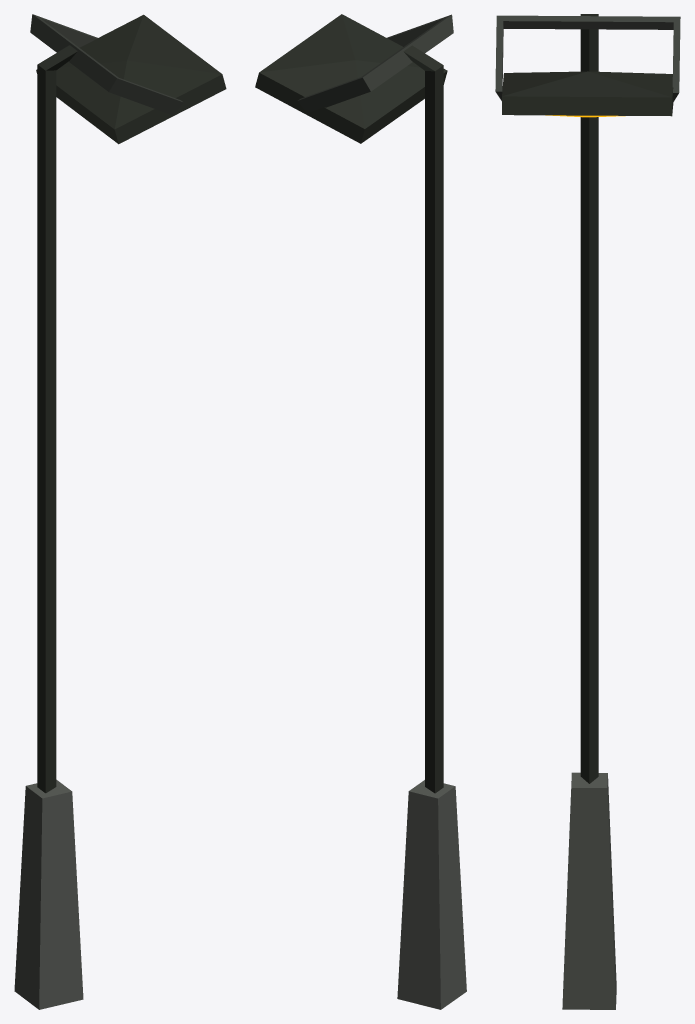
File: Stadium_Light.glb
The picture shows the model from 3 angles, left to right: view 1: azimuth 30°, elevation 25°; view 2: azimuth 150°, elevation 25°; view 3: azimuth 270°, elevation 25°; orthographic projection. The views are drawn at different scales.
Visible parts, largest first — view 1: Stadium_Light; view 2: Stadium_Light; view 3: Stadium_Light.
Part boxes in pixels (box(x1,y1,x2,y2)): Stadium_Light: box(14, 14, 226, 1009); Stadium_Light: box(255, 14, 466, 1009); Stadium_Light: box(495, 14, 680, 1009).
Size of what is drawn, in the model's own units: 1.91 by 10.72 by 1.81.
1 material, 1 textured.
